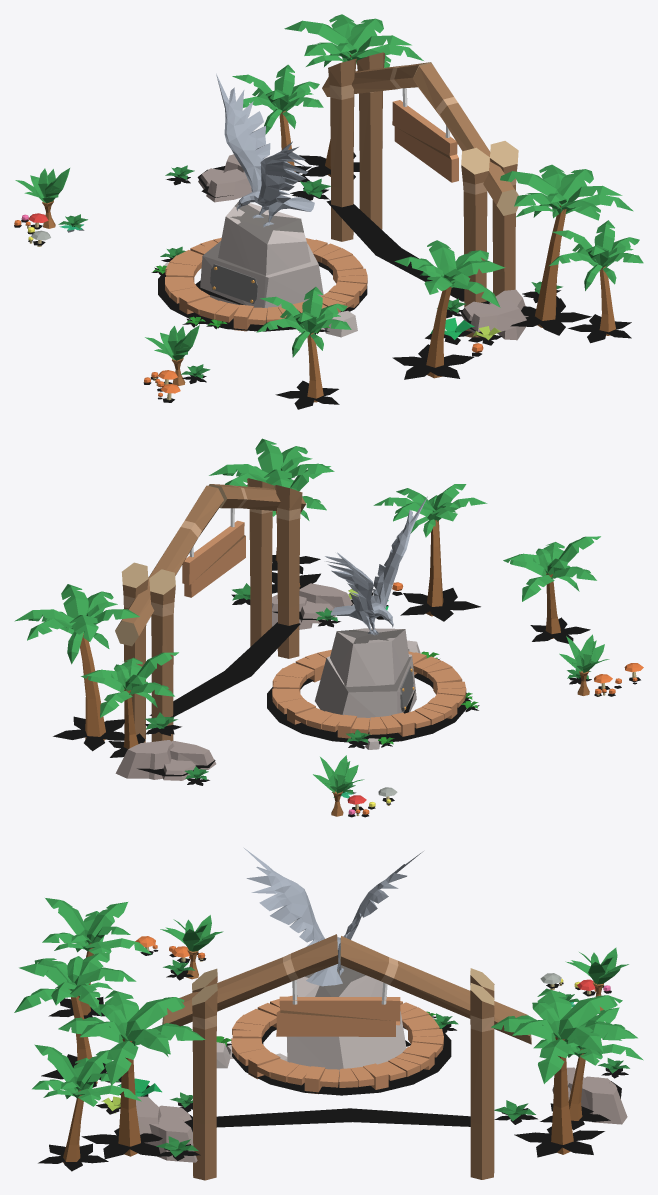
Rendered from zhuangshi_30.FBX.
The picture shows the model from 3 angles, top to bottom: view 1: azimuth 30°, elevation 25°; view 2: azimuth 150°, elevation 25°; view 3: azimuth 270°, elevation 25°; orthographic projection. The views are drawn at different scales.
Parts seen in each view (by area): view 1: zhuangshi_30; view 2: zhuangshi_30; view 3: zhuangshi_30.
Part boxes in pixels (x1,y1,x2,y2): zhuangshi_30: [14, 14, 643, 409]; zhuangshi_30: [14, 438, 643, 817]; zhuangshi_30: [14, 847, 643, 1180].
Size of the model in its own units: 4494 by 2086 by 5137.
